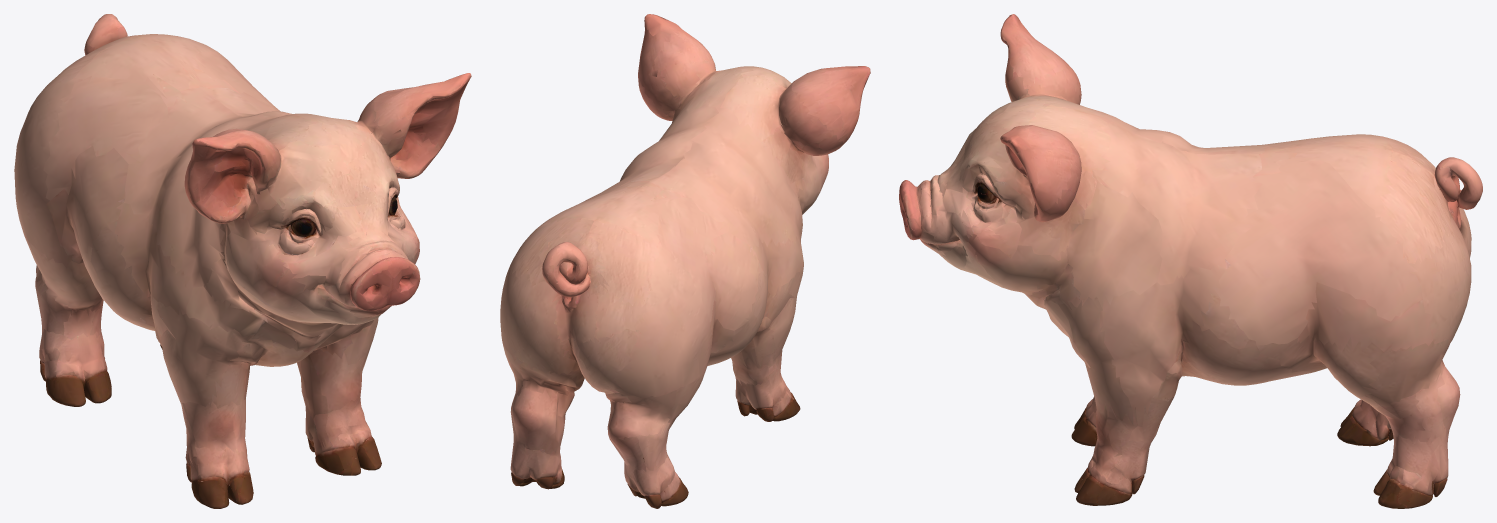
The model's file is upm_muz17vl53im.glb.
3 views of the same model, side by side, from view 1: azimuth 30°, elevation 25°; view 2: azimuth 150°, elevation 25°; view 3: azimuth 270°, elevation 25° (orthographic). The views are drawn at different scales.
Bounding box in the file's own units: 0.9956 × 1.4 × 1.9.
1 material, 1 textured.
